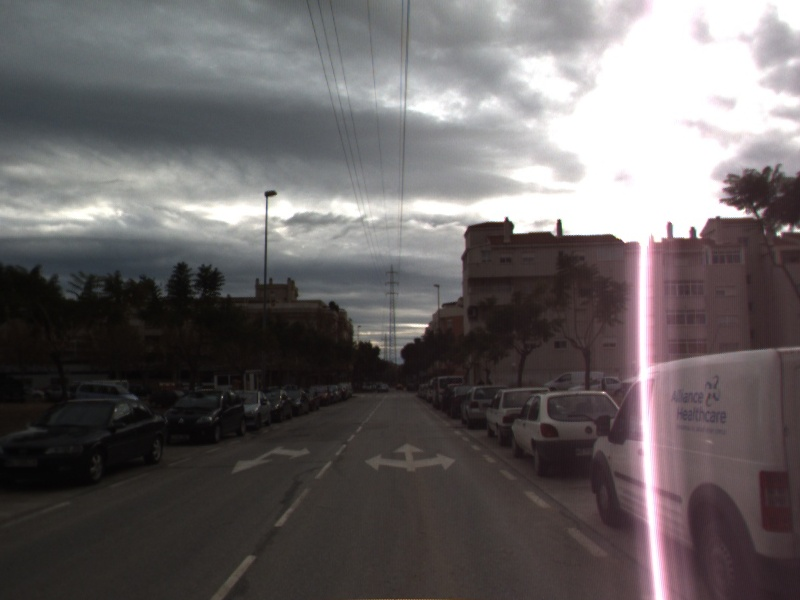STRAIGHT_LEFT_RIGHT: (363, 441, 458, 473)
